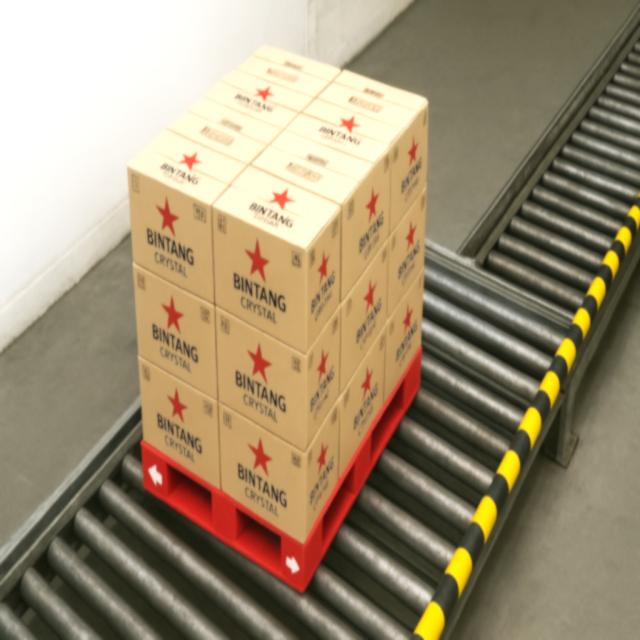pallet: (108, 41, 436, 602)
